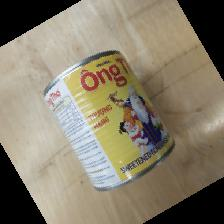Ong_tho: (39, 50, 177, 192)
